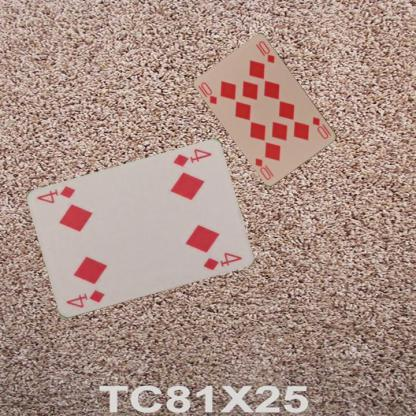10d: (310, 114, 333, 140), (198, 80, 219, 106)
4d: (63, 287, 106, 310), (170, 146, 212, 169)
